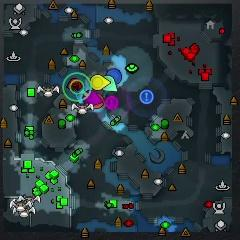Other: (139, 89, 154, 104), (105, 96, 119, 111)
p1: (105, 69, 122, 84)
p2: (101, 75, 117, 92)
p3: (83, 91, 101, 105)
p4: (91, 75, 110, 90)
p5: (90, 94, 105, 110)
